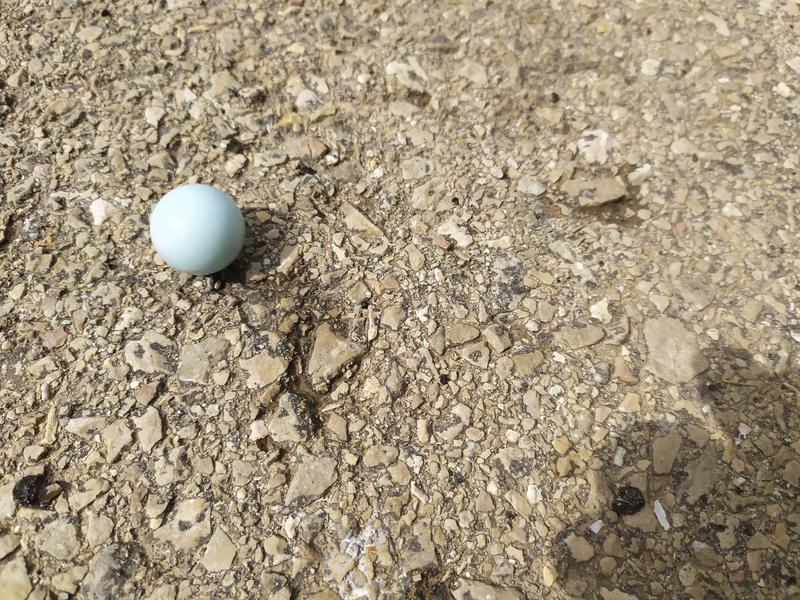Warning: (147, 182, 249, 277)
